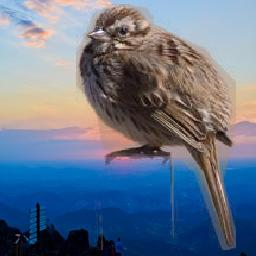Sparrow: (76, 4, 236, 250)
